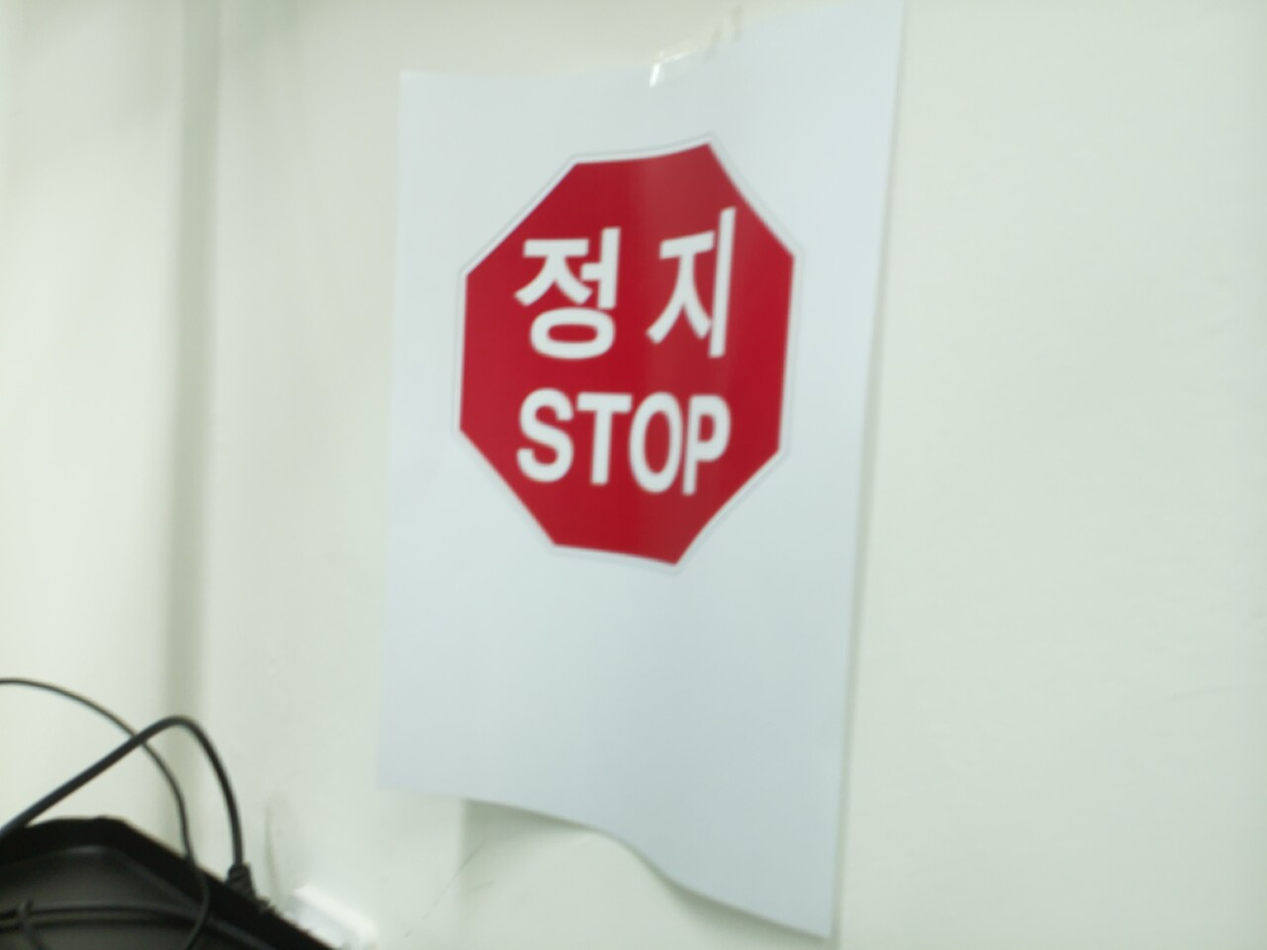stop: (449, 132, 804, 577)
